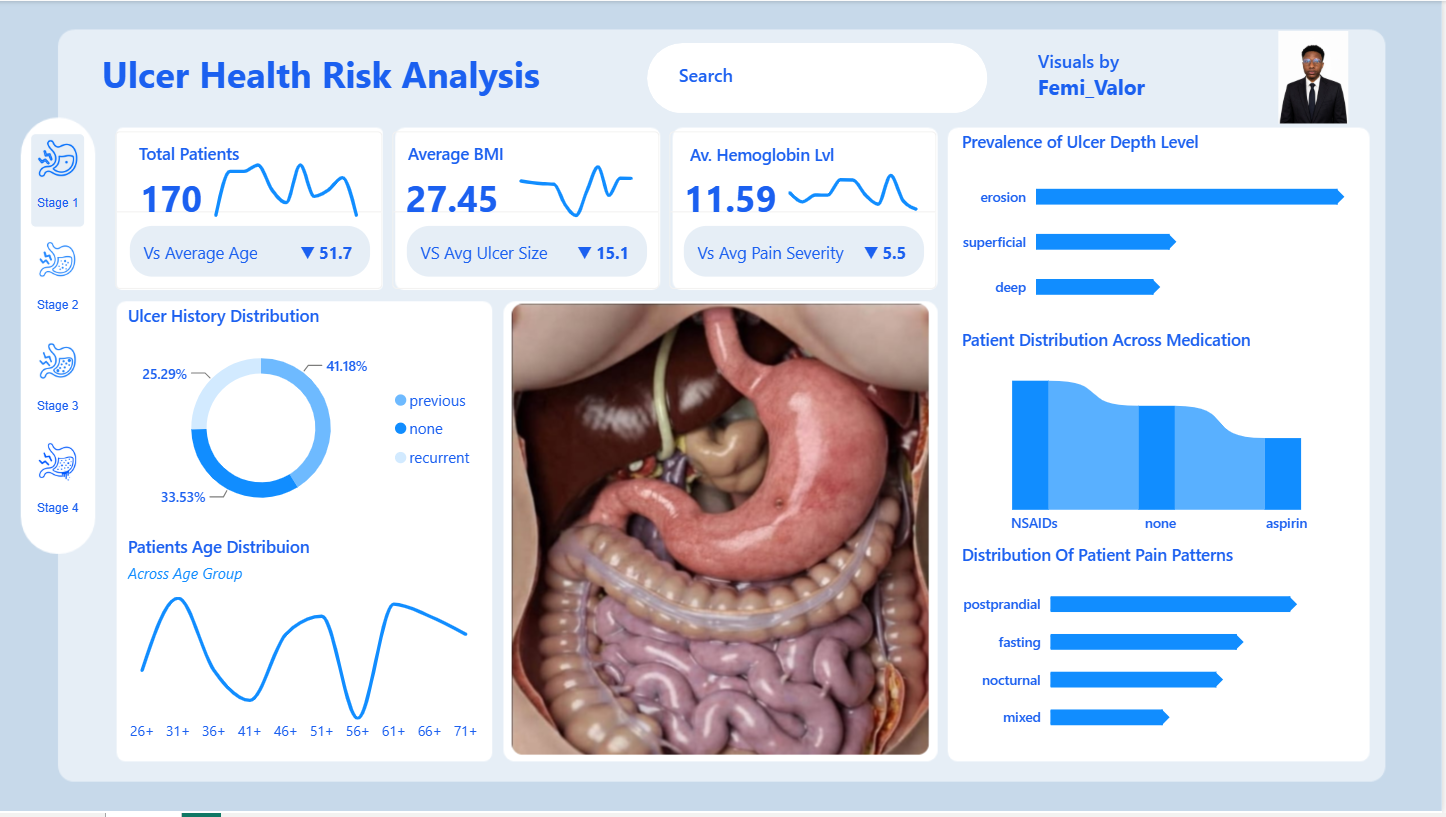

The page's visual inventory and layout, read from the dashboard file:
{"tool":"powerbi","page":{"name":"Page 1","canvas":[1280,720],"ordinal":0},"visuals":[{"type":"ChicletSlicer1448559807354","fields":{"Category":["Ulcer Image Dataset.Ulcer_stage"],"Image":["Ulcer Image Dataset.Icon_Url"]},"box":[20.2,109.2,67.2,383],"z":0},{"type":"imageDB603108E3FF4EBFB8047F5653368E8C","fields":{"imageUrl":["Ulcer Image Dataset.Image_Url"]},"box":[450.2,263.7,379.6,409.9],"z":1000},{"type":"cardVisual","fields":{"Data":["Count(Ulcer Dataset.patient_id)"]},"box":[87,98.5,271.1,174.1],"z":2000},{"type":"cardVisual","fields":{"Data":["Count(Ulcer Dataset.patient_id)"]},"box":[97,139.8,115.6,65.6],"z":3000},{"type":"lineChart","fields":{"Category":["DimDate.Year"],"Y":["Count(Ulcer Dataset.patient_id)"]},"box":[178.1,126,154.5,75.6],"z":4000},{"type":"textbox","box":[119.9,119.9,117,38.5],"z":5000},{"type":"cardVisual","fields":{"Data":["Count(Ulcer Dataset.patient_id)"]},"box":[332.5,98.5,271.1,174.1],"z":6000},{"type":"cardVisual","fields":{"Data":["Avg(Ulcer Dataset.bmi)"]},"box":[332.5,139.8,145.6,65.6],"z":7000},{"type":"lineChart","fields":{"Category":["DimDate.Year"],"Y":["Avg(Ulcer Dataset.bmi)"]},"box":[448.5,122.6,127.7,75.6],"z":8000},{"type":"textbox","box":[358.2,119.9,117,38.5],"z":9000},{"type":"cardVisual","fields":{"Data":["Count(Ulcer Dataset.patient_id)"]},"box":[577.9,98.5,271.1,174.1],"z":10000},{"type":"lineChart","fields":{"Category":["DimDate.Year"],"Y":["Avg(Ulcer Dataset.hemoglobin_g_dl)"]},"box":[687.4,133.2,141.7,70.9],"z":11000},{"type":"cardVisual","fields":{"Data":["Avg(Ulcer Dataset.hemoglobin_g_dl)"]},"box":[579.4,139.8,148.4,65.6],"z":12000},{"type":"textbox","box":[608.1,120.9,156.2,38.6],"z":13000},{"type":"donutChart","title":"Ulcer History Distribution","fields":{"Category":["Ulcer Dataset.ulcer_history"],"Y":["CountNonNull(Ulcer Dataset.patient_id)"]},"box":[109.9,268.3,322.5,199.8],"z":14000},{"type":"lineChart","title":"Patients Age Distribuion","fields":{"Category":["Ulcer Dataset.Age Group"],"Y":["CountNonNull(Ulcer Dataset.patient_id)"]},"box":[109.9,473.8,322.5,192.6],"z":15000},{"type":"clusteredBarChart","title":"Prevalence of Ulcer Depth Level","fields":{"Category":["Ulcer Dataset.ulcer_depth"],"Y":["CountNonNull(Ulcer Dataset.patient_id)"]},"box":[849.1,114.2,362.5,176.9],"z":16000},{"type":"columnChart","title":"Patient Distribution Across Medication","fields":{"Category":["Ulcer Dataset.med_type"],"Y":["CountNonNull(Ulcer Dataset.patient_id)"]},"box":[849.1,289.7,362.5,191.2],"z":17000},{"type":"clusteredBarChart","title":"Distribution Of Patient Pain Patterns","fields":{"Category":["Ulcer Dataset.pain_pattern"],"Y":["CountNonNull(Ulcer Dataset.patient_id)"]},"box":[849.1,480.9,362.5,186.9],"z":18000},{"type":"textbox","box":[86.5,36.9,425.2,60.9],"z":19000},{"type":"shape","box":[575.4,36.9,301.9,62.4],"z":20000},{"type":"textbox","box":[598.1,49.6,83.6,35.4],"z":21000},{"type":"textbox","box":[917,36.9,206.9,60.9],"z":22000},{"type":"image","box":[1101.3,26.6,130.3,82.5],"z":23000}]}

Visuals, with their boxes in screenshot pixels (x1, y1, x2, y2), scaled from the page's 1280x720 canvas onto the 1446x817 screenshot:
ChicletSlicer1448559807354 - Ulcer Image Dataset.Ulcer_stage x Ulcer Image Dataset.Icon_Url: 23:124:99:559
imageDB603108E3FF4EBFB8047F5653368E8C - Ulcer Image Dataset.Image_Url: 509:299:937:764
cardVisual - Count(Ulcer Dataset.patient_id): 98:112:405:309
cardVisual - Count(Ulcer Dataset.patient_id): 110:159:240:233
lineChart - DimDate.Year x Count(Ulcer Dataset.patient_id): 201:143:376:229
textbox: 135:136:268:180
cardVisual - Count(Ulcer Dataset.patient_id): 376:112:682:309
cardVisual - Avg(Ulcer Dataset.bmi): 376:159:540:233
lineChart - DimDate.Year x Avg(Ulcer Dataset.bmi): 507:139:651:225
textbox: 405:136:537:180
cardVisual - Count(Ulcer Dataset.patient_id): 653:112:959:309
lineChart - DimDate.Year x Avg(Ulcer Dataset.hemoglobin_g_dl): 777:151:937:232
cardVisual - Avg(Ulcer Dataset.hemoglobin_g_dl): 655:159:822:233
textbox: 687:137:863:181
"Ulcer History Distribution" donutChart: 124:304:488:531
"Patients Age Distribuion" lineChart: 124:538:488:756
"Prevalence of Ulcer Depth Level" clusteredBarChart: 959:130:1369:330
"Patient Distribution Across Medication" columnChart: 959:329:1369:546
"Distribution Of Patient Pain Patterns" clusteredBarChart: 959:546:1369:758
textbox: 98:42:578:111
shape: 650:42:991:113
textbox: 676:56:770:96
textbox: 1036:42:1270:111
image: 1244:30:1391:124
